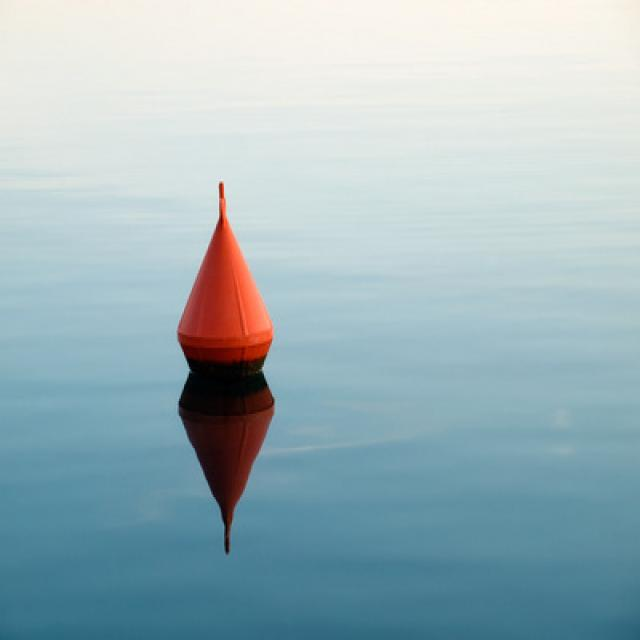buoy: (176, 176, 277, 366)
